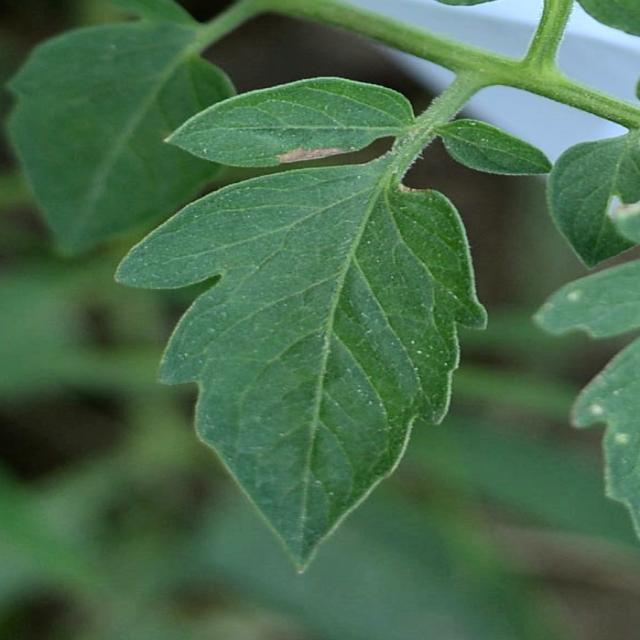healthy: (94, 165, 502, 580)
